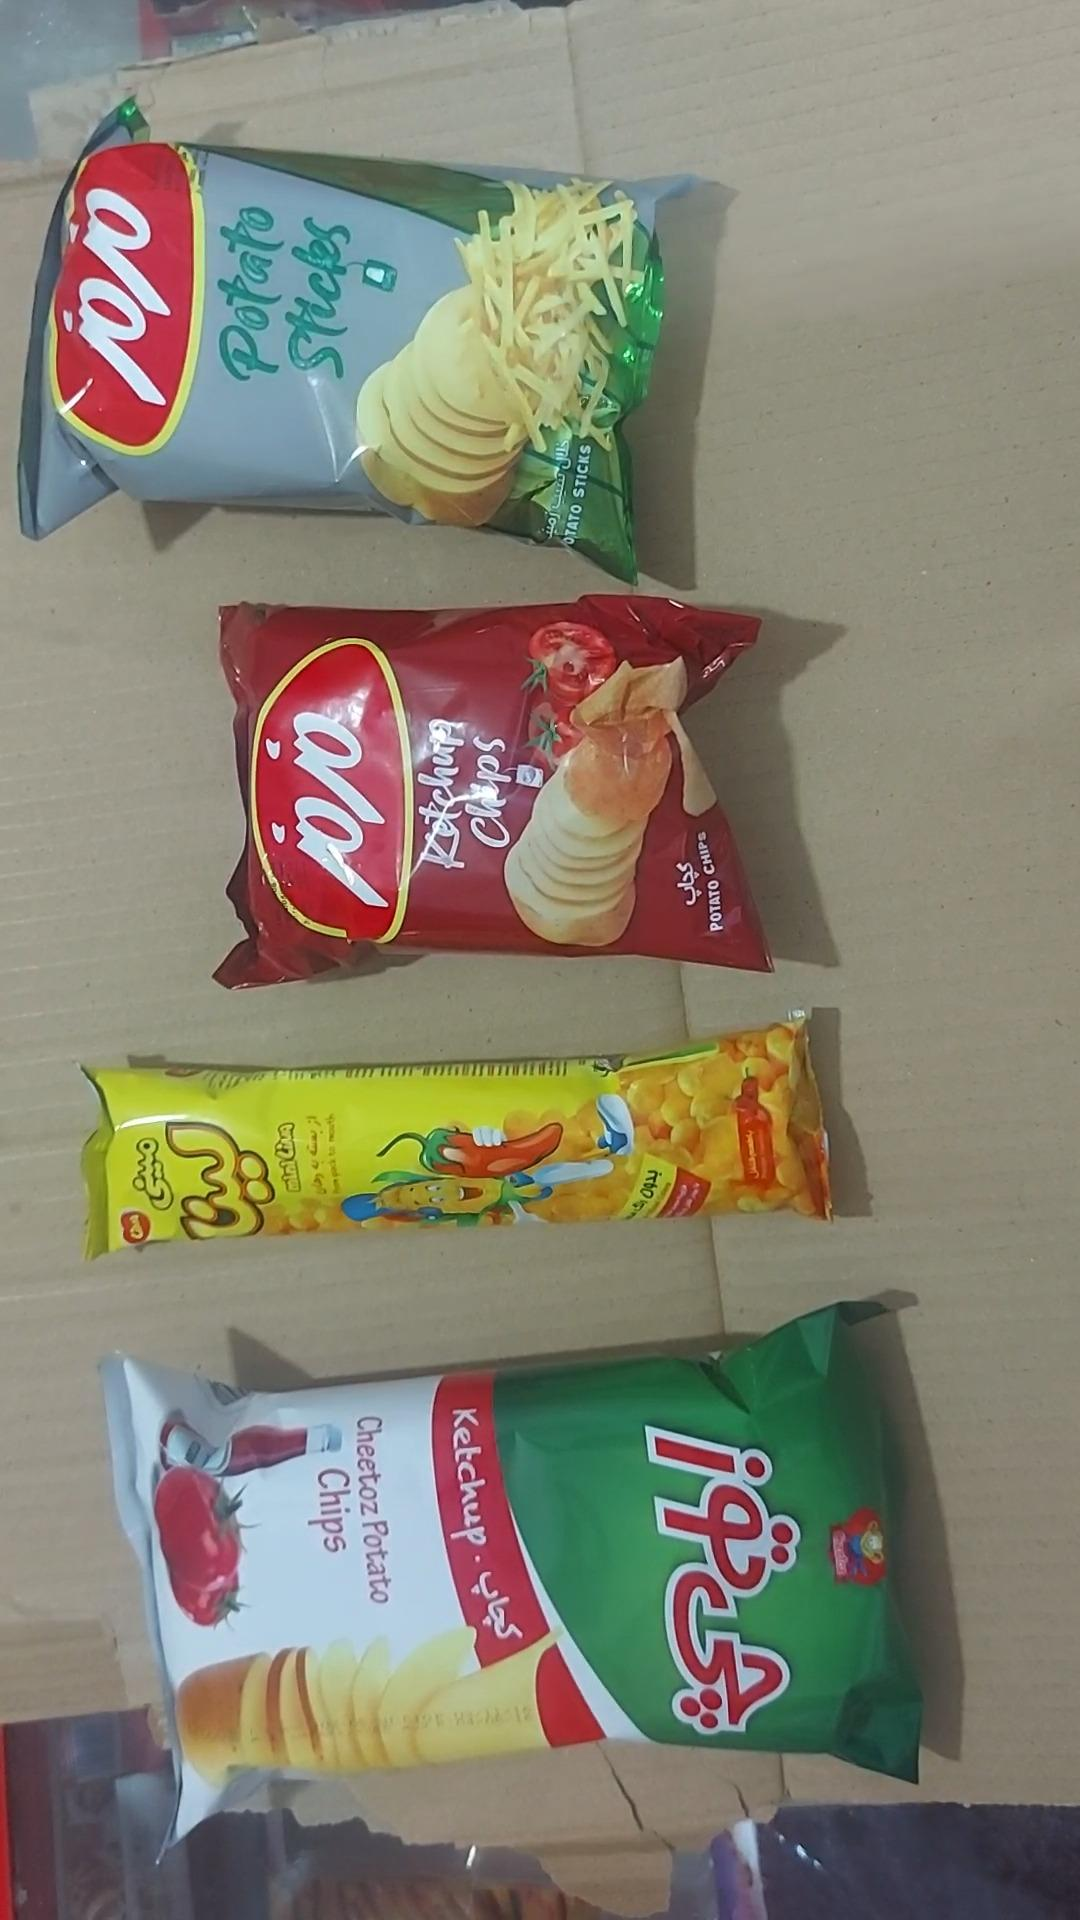Cheetoz ketchup chips: (102, 1294, 924, 1859)
Maz Maz ketchup chips: (214, 593, 775, 993)
Maz Maz potato sticks: (15, 98, 696, 587)
Mini Lina: (79, 1010, 835, 1263)
